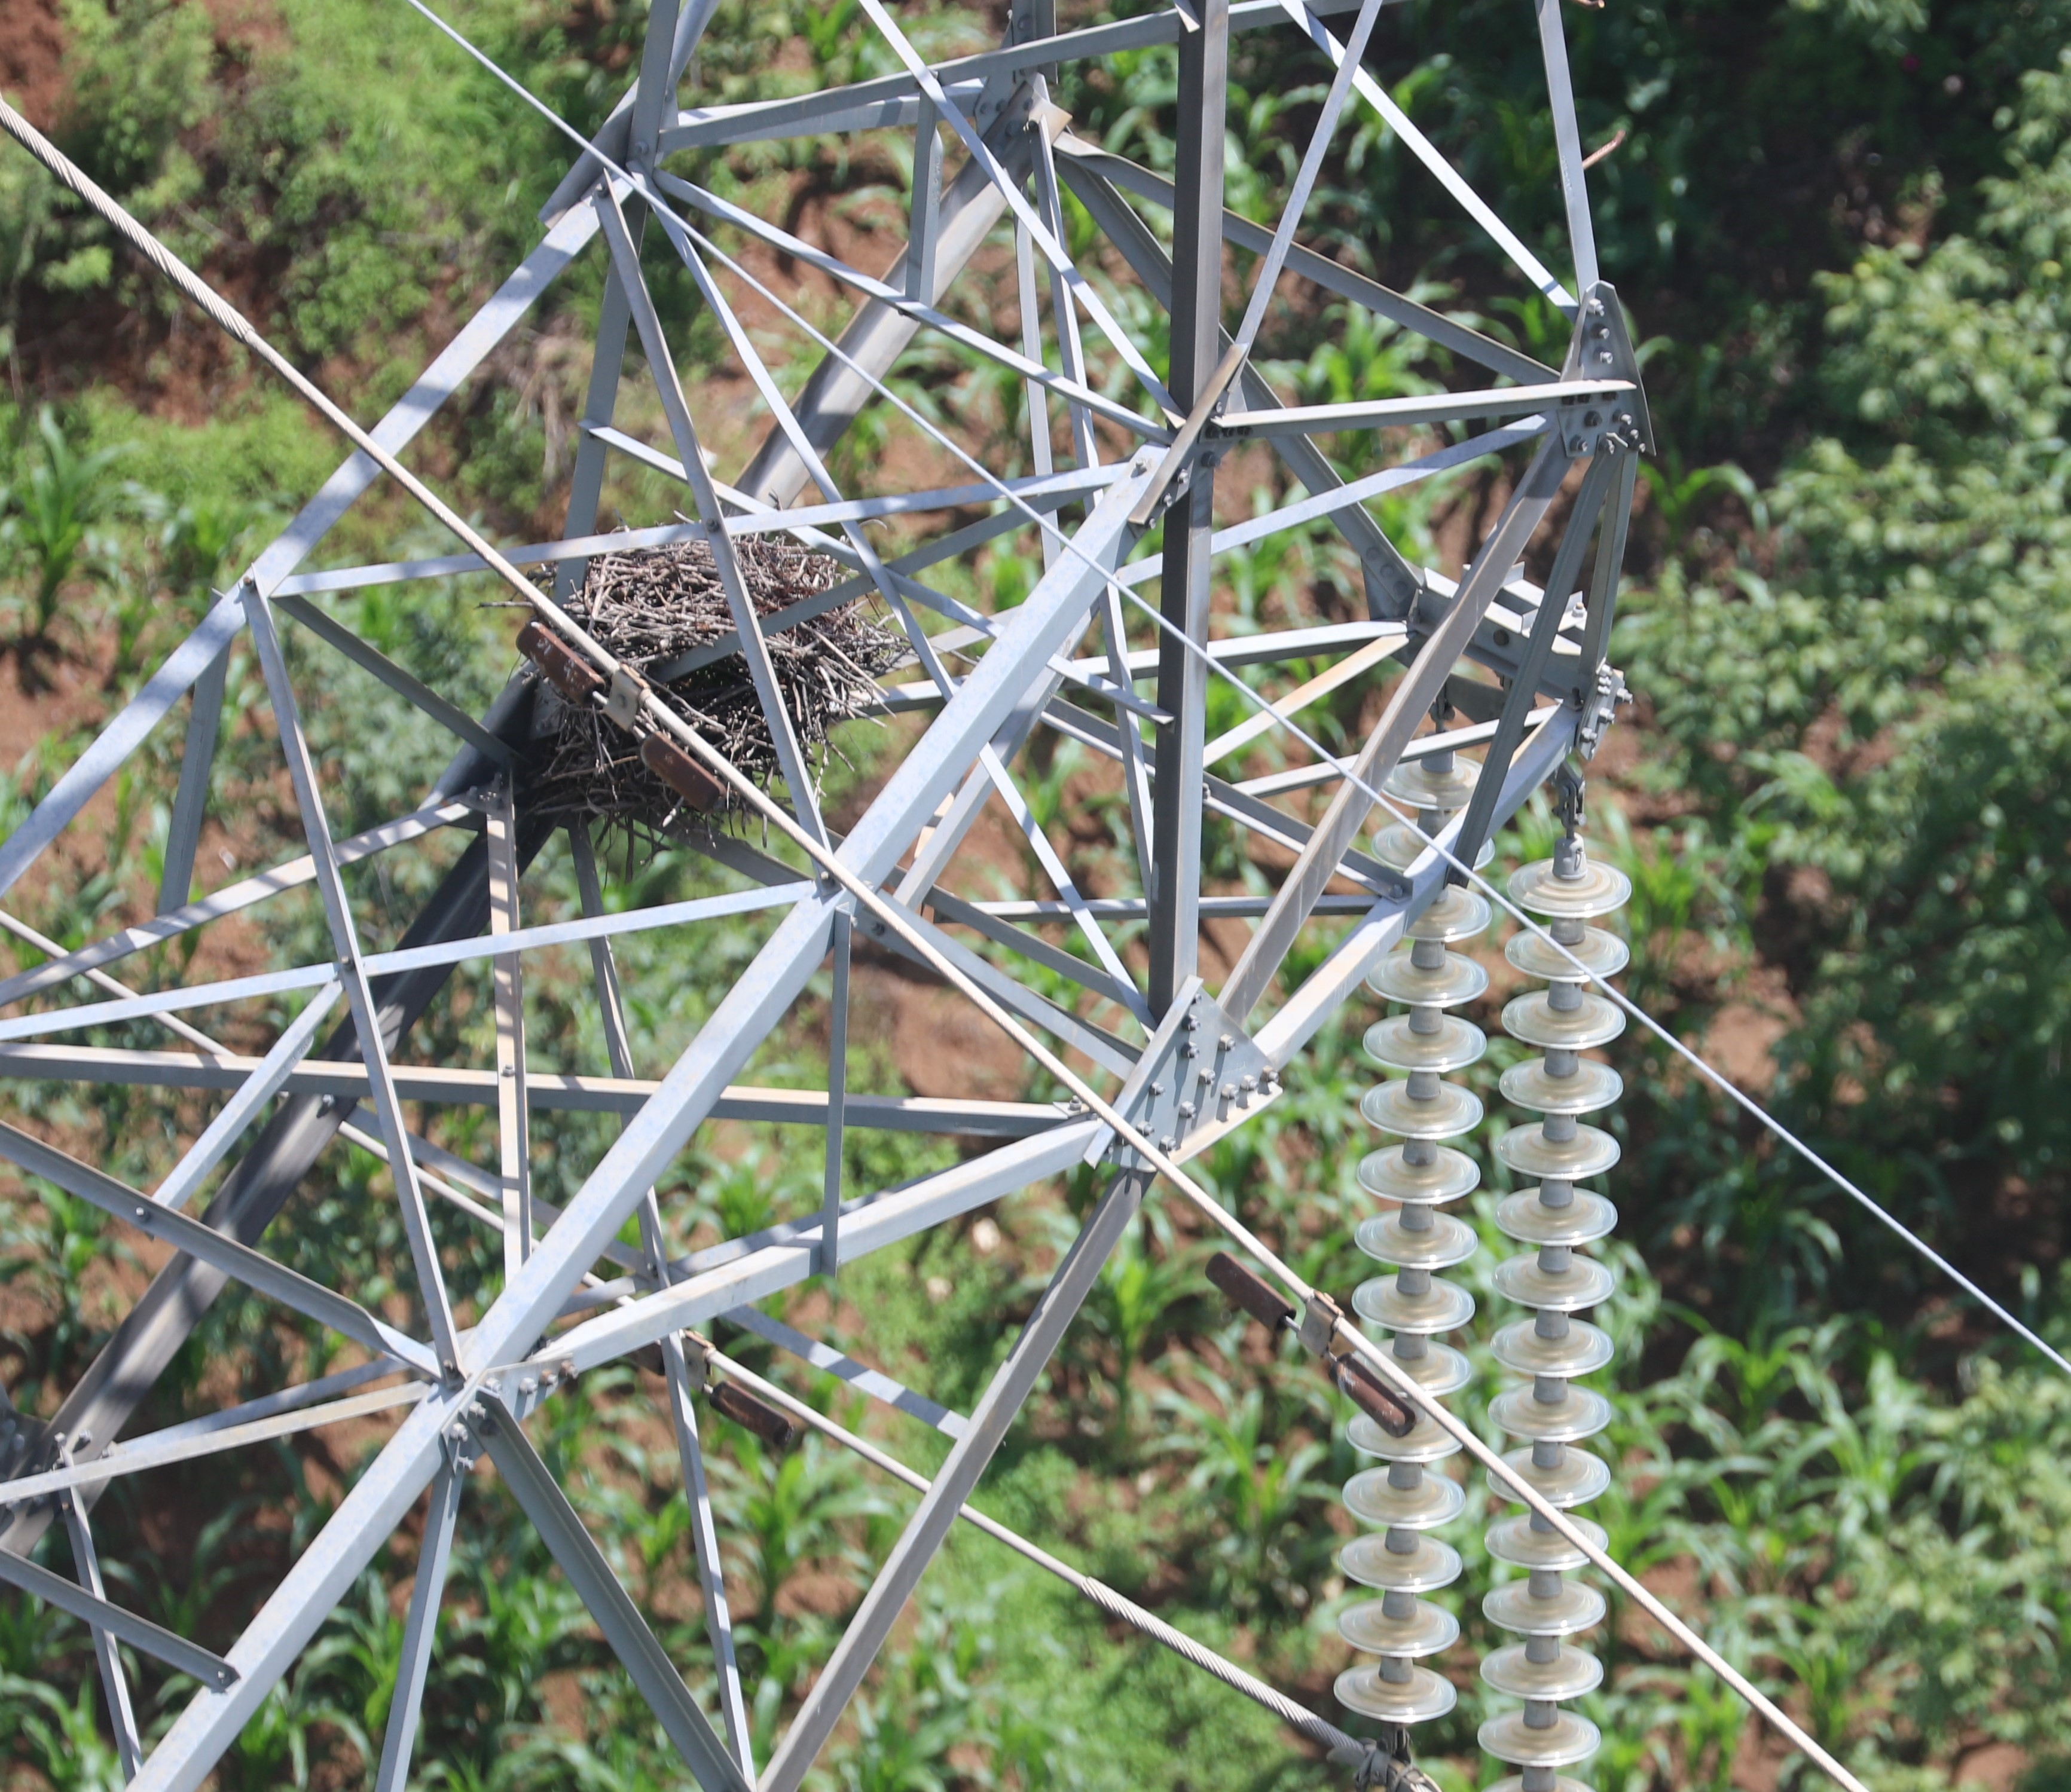niaowo: (456, 477, 902, 820)
